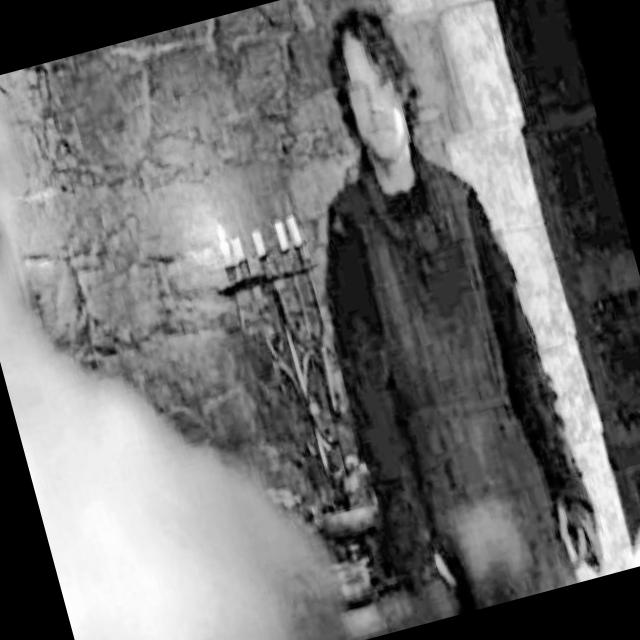Person: (241, 0, 613, 629)
